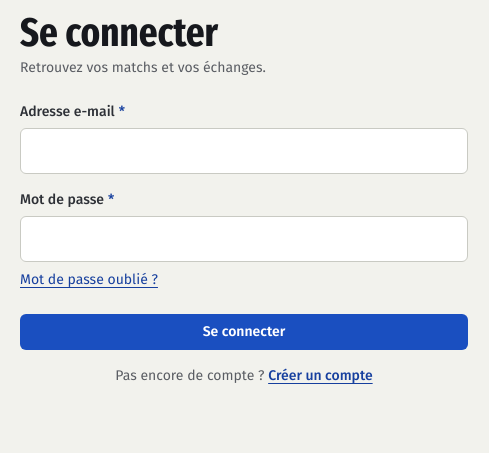
Test: page de connexion › valide côté client avant tout appel réseau
The width and height of the screenshot is (489, 453).
Click the button "Se connecter". click: click(244, 332)
box: [20,314,468,350]
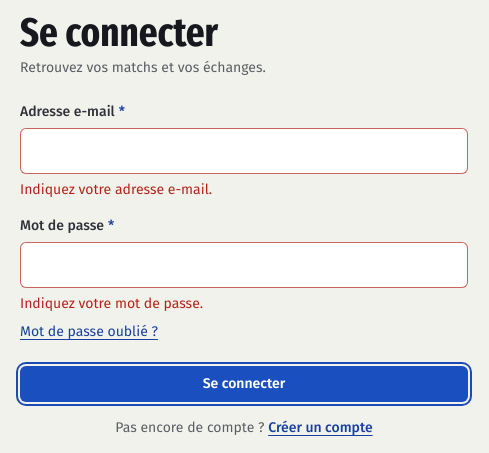
Result: the text "Indiquez votre adresse e-mail." is shown at [20,181,212,198]
Result: the text "Indiquez votre mot de passe." is shown at [20,295,203,312]
